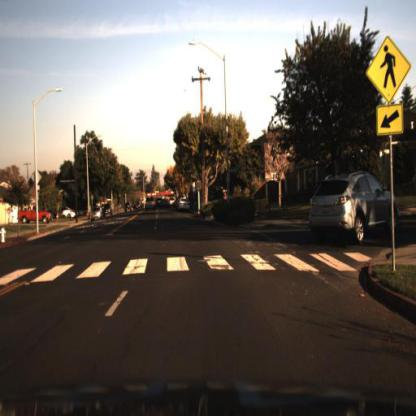car: (308, 171, 397, 246), (17, 206, 52, 227), (62, 207, 79, 223), (89, 207, 106, 223), (122, 199, 134, 217), (102, 203, 116, 217), (178, 198, 191, 213), (145, 196, 157, 212)
pedestrian: (224, 193, 229, 207)
